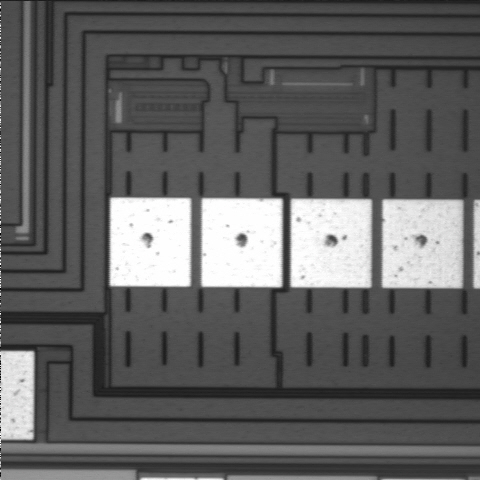pad: (110, 198, 191, 287), (201, 198, 282, 287), (291, 199, 372, 288), (382, 200, 463, 288)
